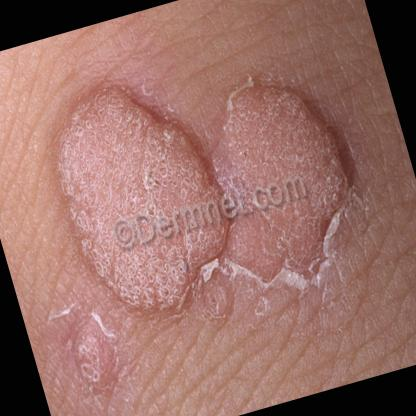Warts: (62, 314, 121, 394)
